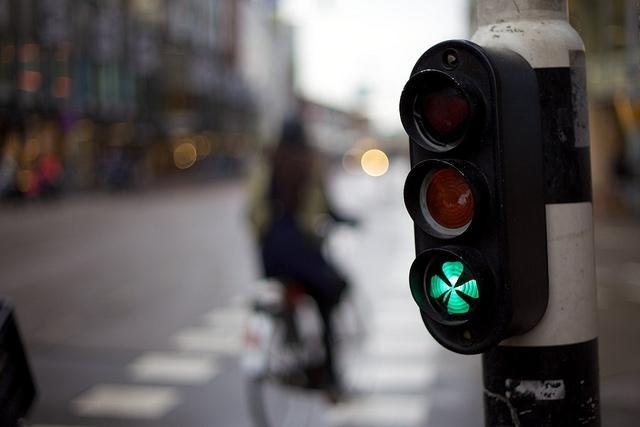bicycle: (249, 222, 362, 402)
